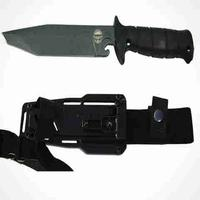knife: (2, 13, 196, 74)
